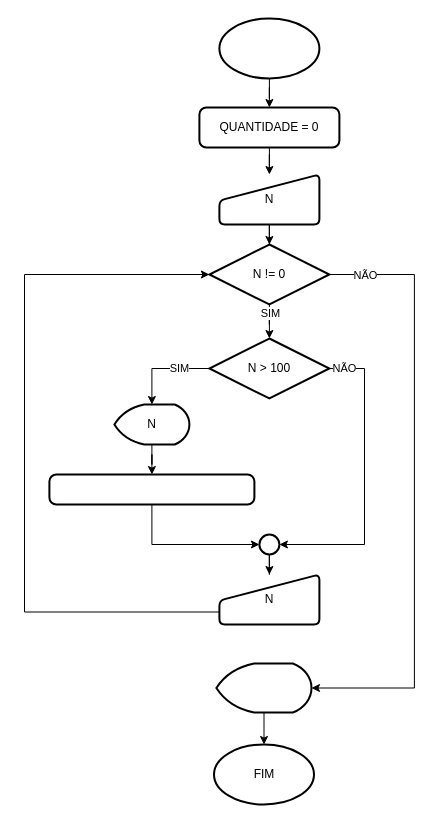
Some shapes in this 440 by 822 pixel diagram are drawn without their labels. Here are the shapes that lost their labels. From the top down, the centre of each, then its label:
At [269,48]: "INICIO".
At [151,489]: "QUANTIDADE = QUANTIDADE + 1".
At [263,687]: "QUANTIDADE".
